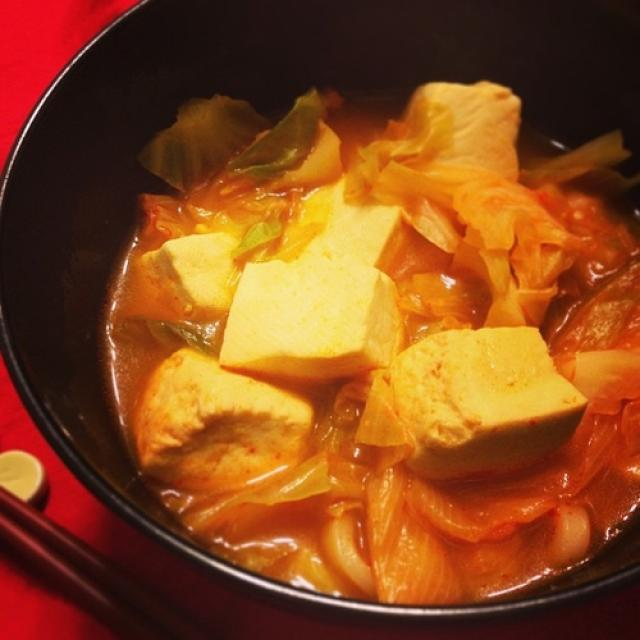汤锅炖物: (59, 21, 633, 613)
